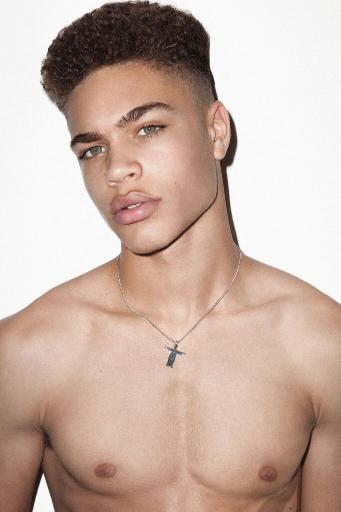left_eye: (135, 122, 170, 142)
left_lip_corner: (152, 192, 167, 207)
right_eye: (78, 144, 108, 163)
right_lip_corner: (108, 204, 120, 221)
